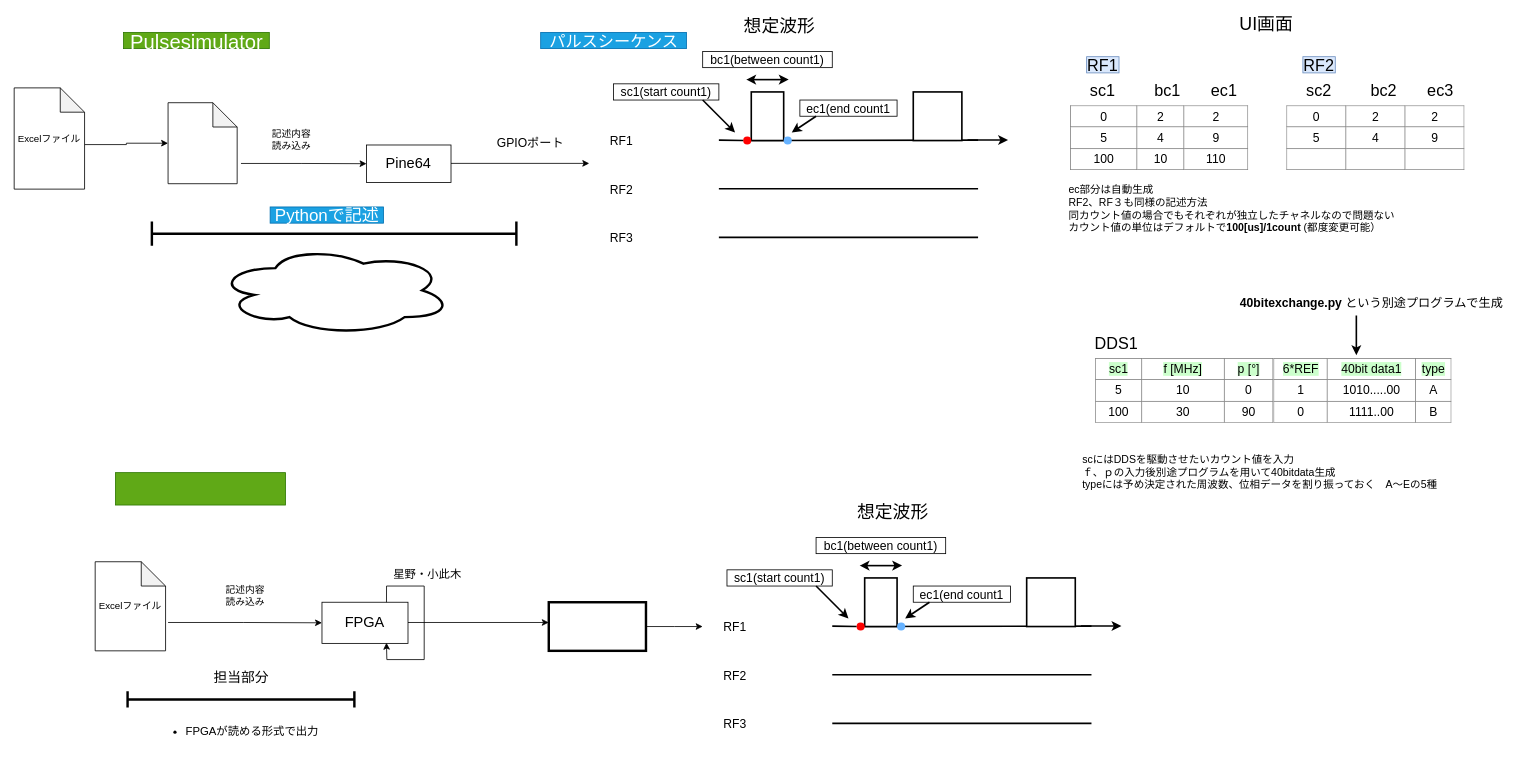
This 1520x778 diagram has some shape labels left out. The shapes that lost their labels are listed below. From the top down, each one's centre as x and y in pixels, then its label:
At pixel 202 143: "CSVファイル".
At pixel 333 290: "Pythonを使う理由 GPIO制御ができる 構文が簡単 動作が比較的早い".
At pixel 200 488: "Pulseprogramaer".
At pixel 597 626: "DDS(AD9851)".
